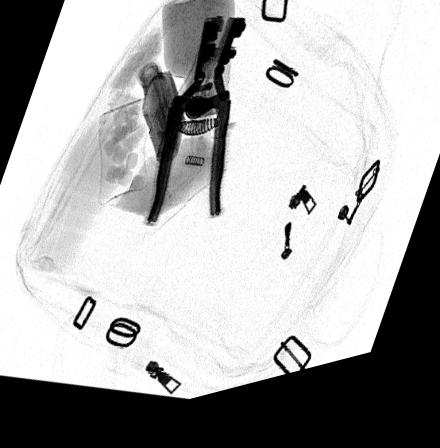Pliers: (141, 25, 247, 232)
